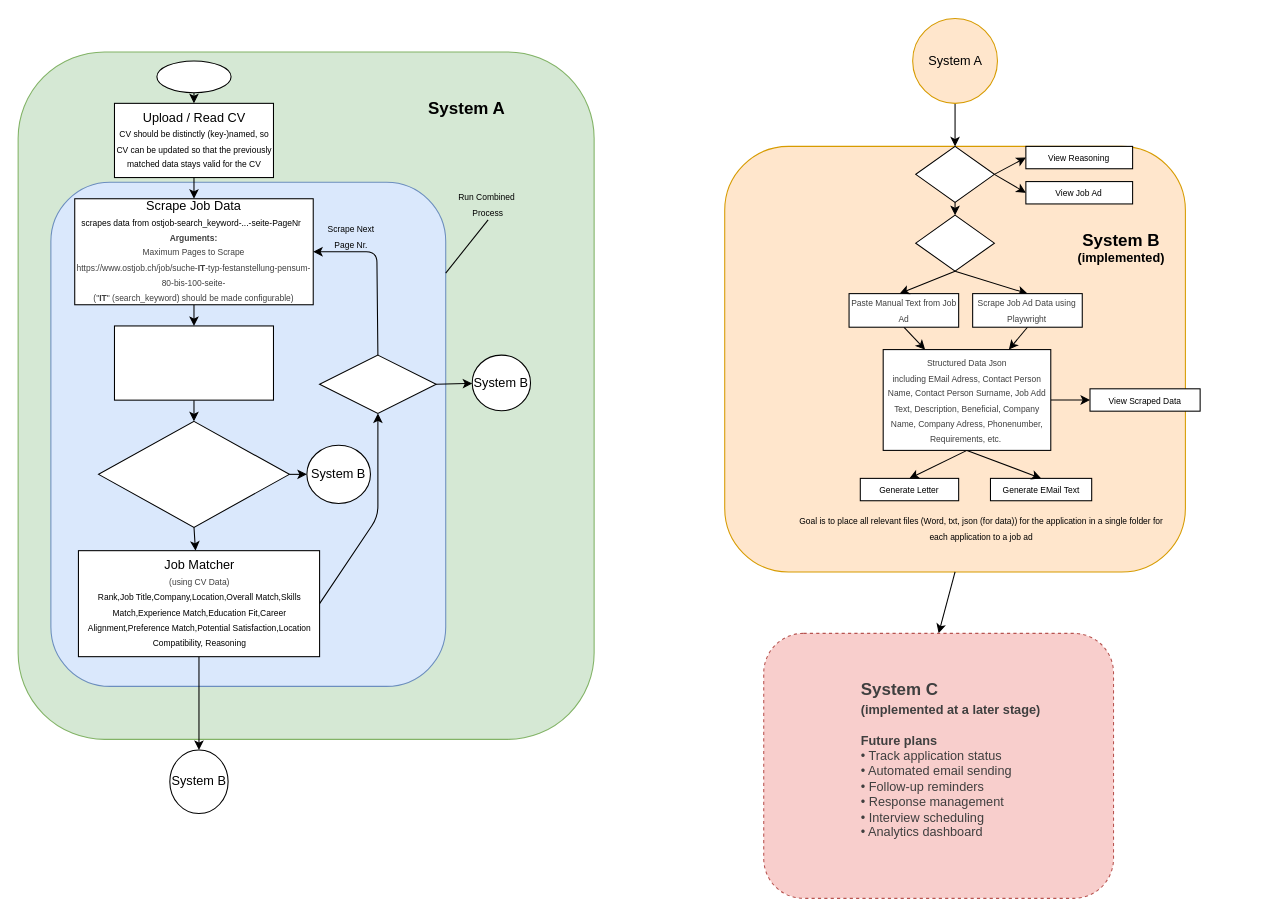
This 1280x917 diagram has some shape labels left out. Here are the shapes that lost their labels. From the top down, the centre of each, then its label:
At (x=193, y=76): "Start".
At (x=954, y=173): "Actions".
At (x=954, y=242): "Get Data".
At (x=193, y=362): "Available Job Data Job-Ad-URL, Posting Date,Job Title,Company Name,Location".
At (x=377, y=383): "Maximum Page Nr. Reached?".
At (x=193, y=473): "Job Ad URL Matched by Job Matcher u sing same search_keyword and same CV-Key?".
